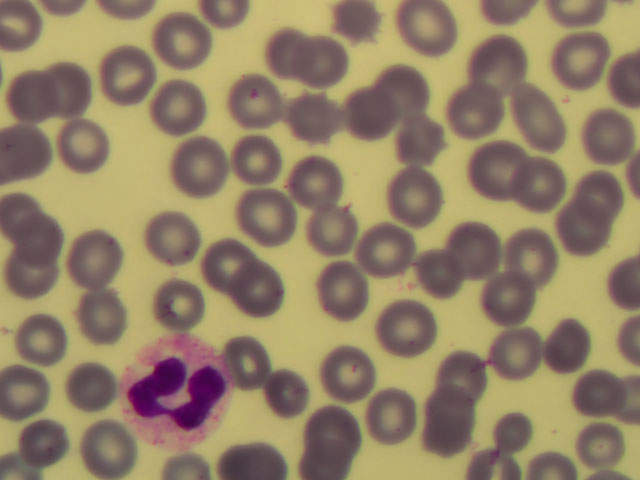RBC: (95, 40, 156, 106), (44, 57, 105, 123), (7, 62, 68, 128), (1, 115, 62, 181), (53, 111, 114, 177), (14, 211, 75, 277), (5, 234, 66, 300), (69, 226, 130, 292), (67, 275, 128, 341), (12, 301, 73, 367), (55, 353, 116, 419), (148, 267, 209, 333), (145, 213, 206, 279), (199, 231, 260, 297), (231, 258, 292, 324), (238, 192, 299, 258), (230, 131, 291, 197), (176, 128, 237, 194), (155, 72, 216, 138), (156, 13, 217, 79), (224, 72, 285, 138), (251, 22, 312, 88), (283, 29, 344, 95), (334, 1, 395, 67), (396, 1, 457, 67), (464, 24, 525, 90), (443, 80, 504, 146), (499, 83, 560, 149), (470, 136, 531, 202), (499, 151, 560, 217), (553, 201, 614, 267), (569, 156, 630, 222), (575, 99, 636, 165), (551, 35, 612, 101), (504, 220, 565, 286), (478, 264, 539, 330), (447, 215, 508, 281), (417, 237, 478, 303), (357, 219, 418, 285), (388, 164, 449, 230), (394, 117, 455, 183), (380, 64, 441, 130), (344, 84, 405, 150), (280, 88, 341, 154), (290, 140, 351, 206), (300, 198, 361, 264), (311, 260, 372, 326), (378, 299, 439, 365), (316, 338, 377, 404), (266, 356, 327, 422), (217, 323, 278, 389), (303, 400, 364, 466), (362, 380, 423, 446), (411, 396, 472, 462), (432, 338, 493, 404), (485, 320, 546, 386), (532, 314, 593, 380), (563, 364, 624, 430), (569, 414, 630, 480), (488, 398, 549, 464), (77, 414, 138, 480), (1, 178, 61, 244), (1, 369, 61, 435)
WBC: (119, 333, 236, 452)
